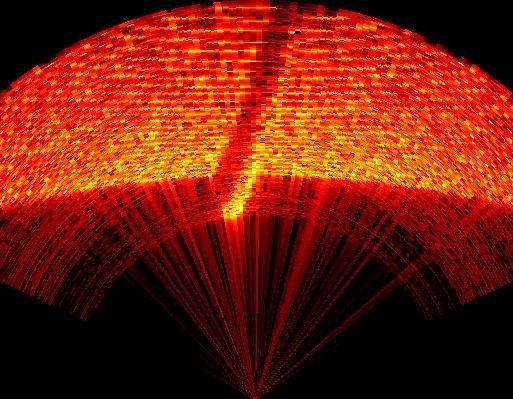pipe: (210, 2, 301, 223)
